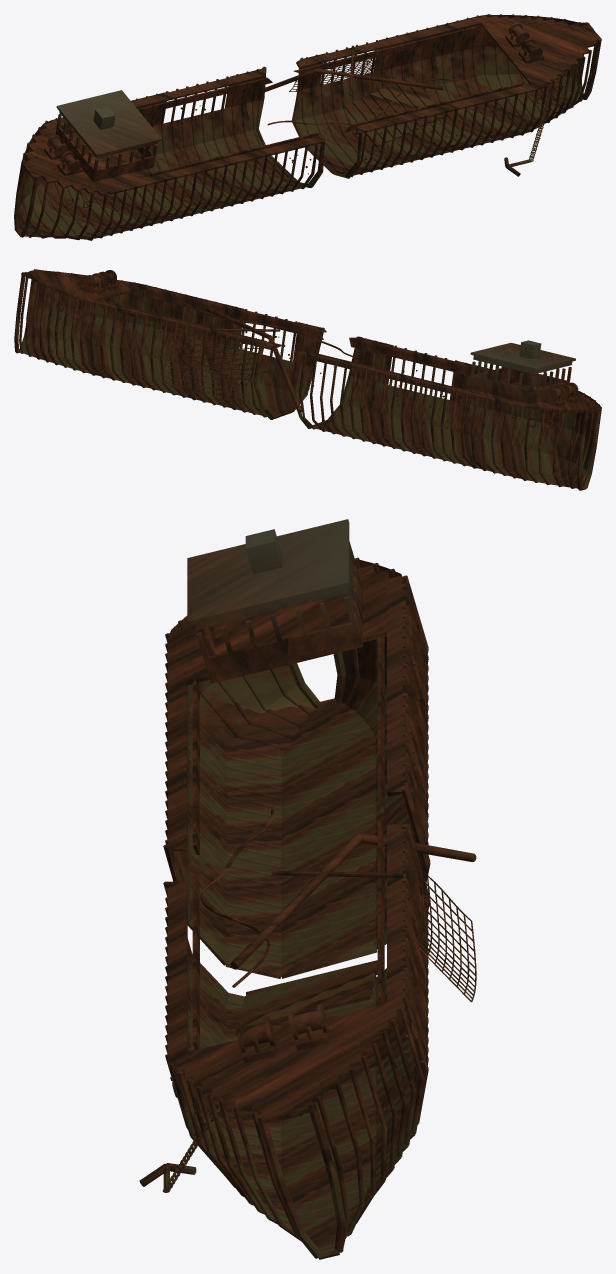
File: wreck_chenjiao_lod1.glb
The picture shows the model from 3 angles, top to bottom: view 1: azimuth 30°, elevation 25°; view 2: azimuth 150°, elevation 25°; view 3: azimuth 270°, elevation 25°; orthographic projection. The views are drawn at different scales.
Parts seen in each view (by area): view 1: Chenjiao; view 2: Chenjiao; view 3: Chenjiao.
Boxes of the visible parts, <box> form: Chenjiao: <box>14,14,601,240</box>; Chenjiao: <box>14,269,601,490</box>; Chenjiao: <box>139,519,476,1259</box>.
Size of the model in its own units: 48 by 11.17 by 12.34.
Materials: 1 (1 with a texture image).
